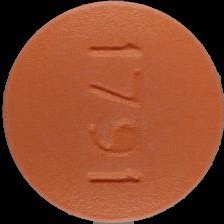0527-1791: (0, 0, 224, 224)
